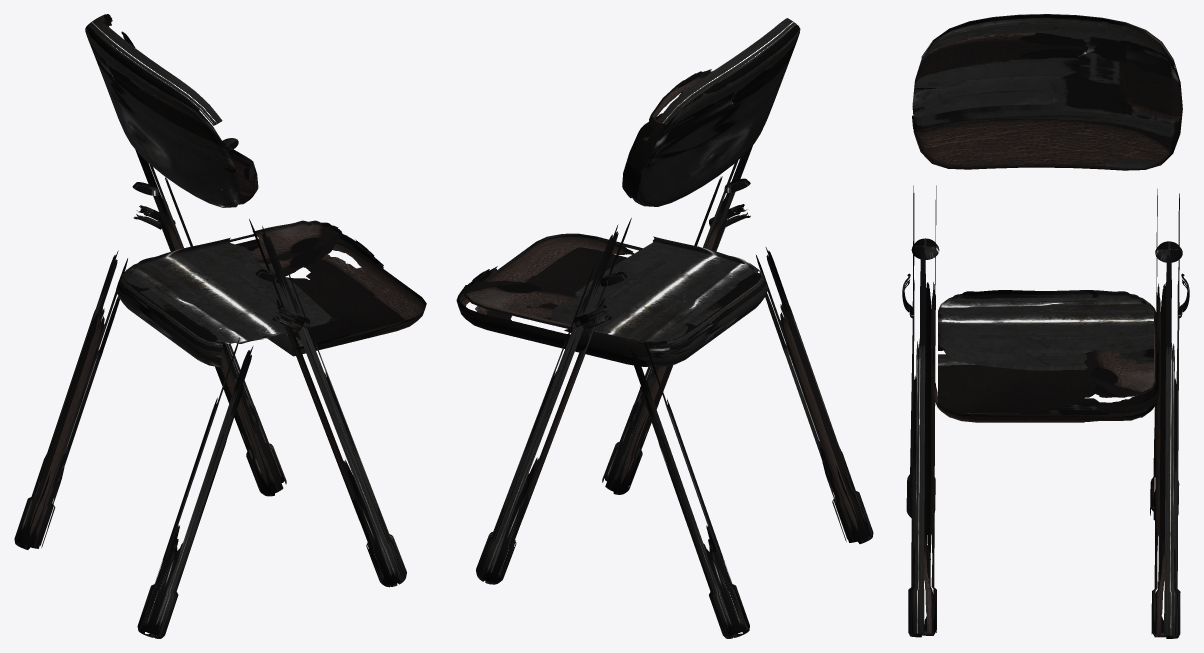
File: chair_Export.fbx
3 views of the same model, side by side, from view 1: azimuth 30°, elevation 25°; view 2: azimuth 150°, elevation 25°; view 3: azimuth 270°, elevation 25° (orthographic).
Parts seen in each view (by area): view 1: Plane.007; view 2: Plane.007; view 3: Plane.007.
Part boxes in pixels (box(x1,y1,x2,y2)): Plane.007: box(14, 14, 426, 638); Plane.007: box(456, 18, 873, 638); Plane.007: box(902, 14, 1189, 638).
Bounding box in the file's own units: 3.66 × 6.1 × 2.98.
